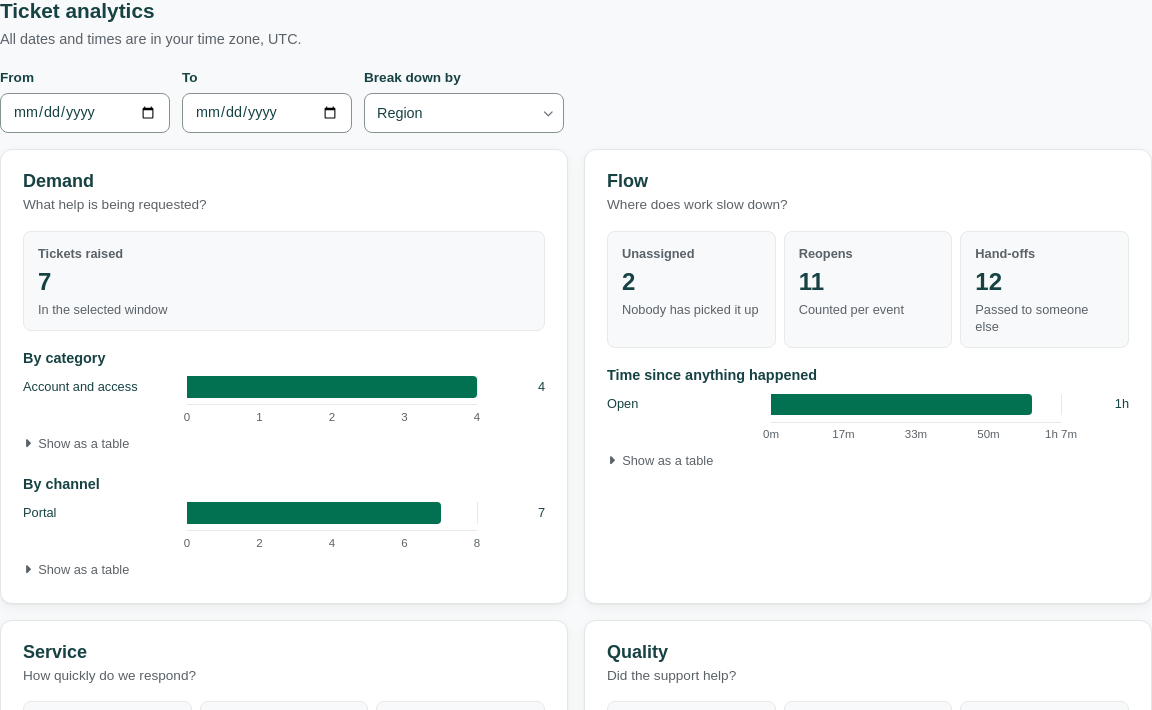
Test case: TicketAnalyticsPage › asks for the chosen breakdown and retitles the card after it
Press the mouse on the element with id "ticket-analytics-dimension" at (464, 113), box [364,93,564,133]
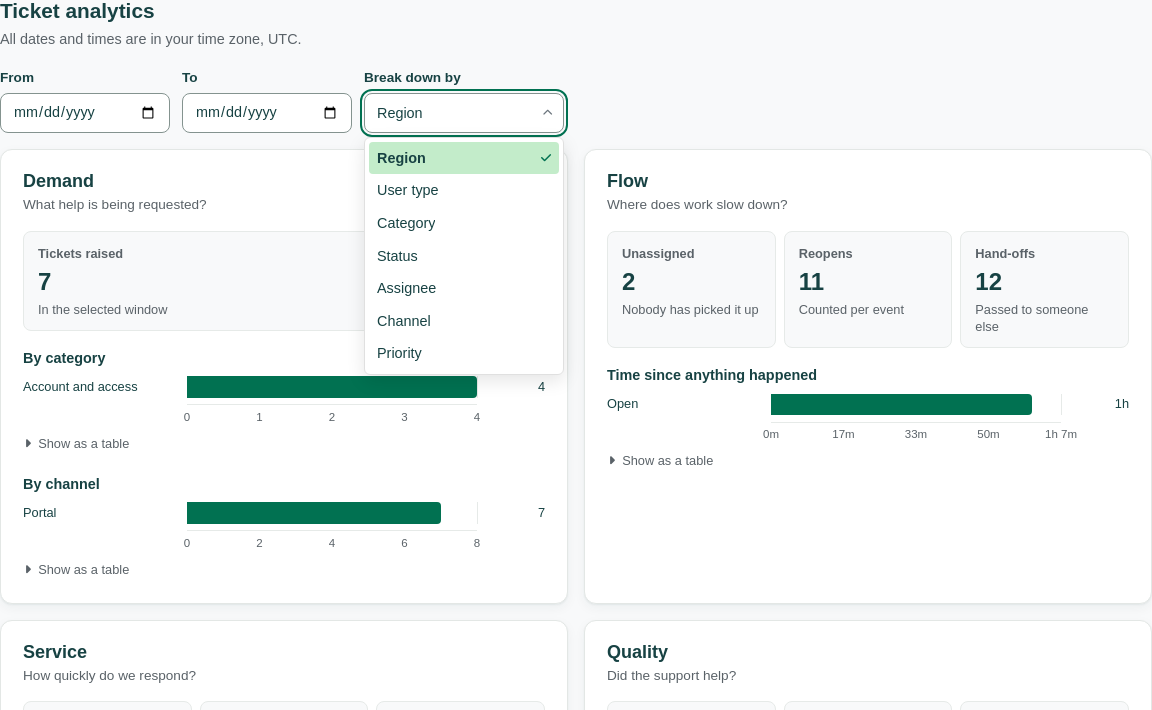
Press the mouse on the option "User type" at (408, 190), box [377,182,439,198]
(page scrolled)
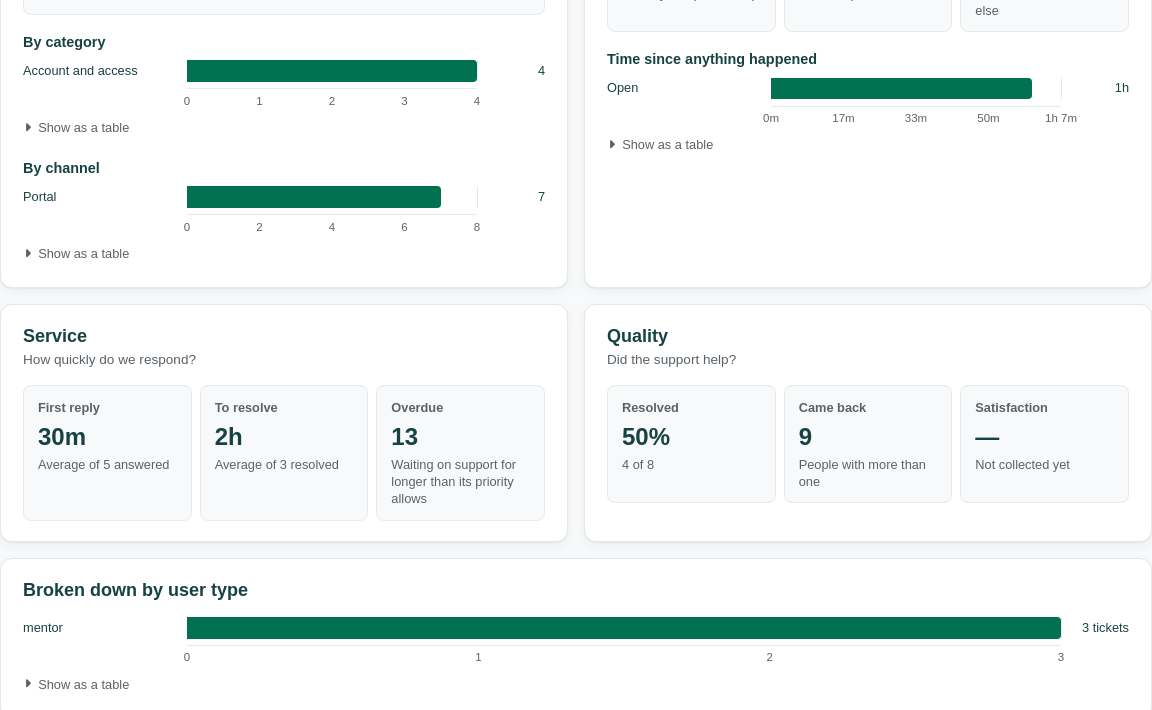
Expected: the heading "Broken down by user type" is shown, [23,580,248,600]
